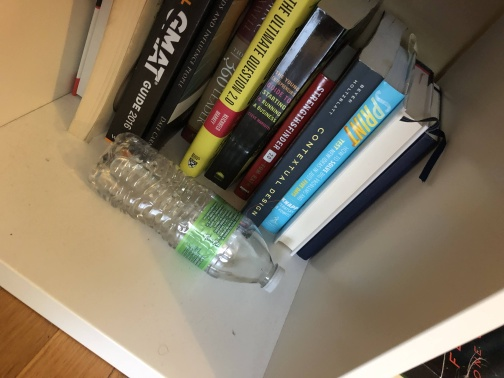bottle: (85, 129, 291, 297)
